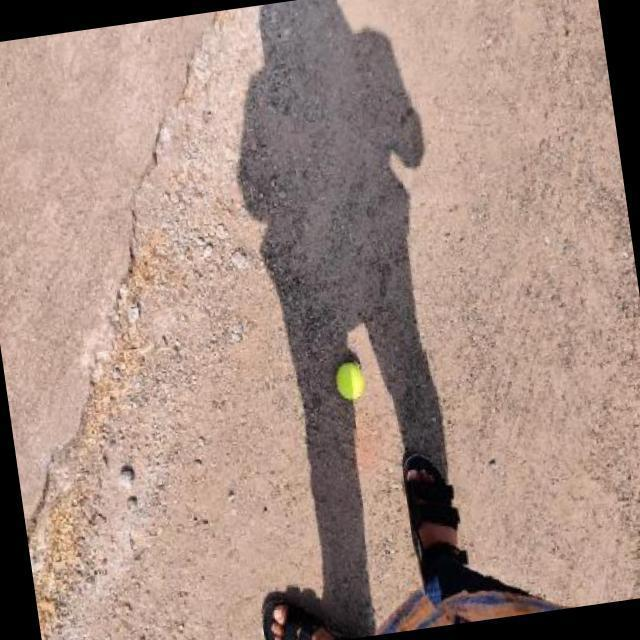-: (322, 350, 381, 415)
